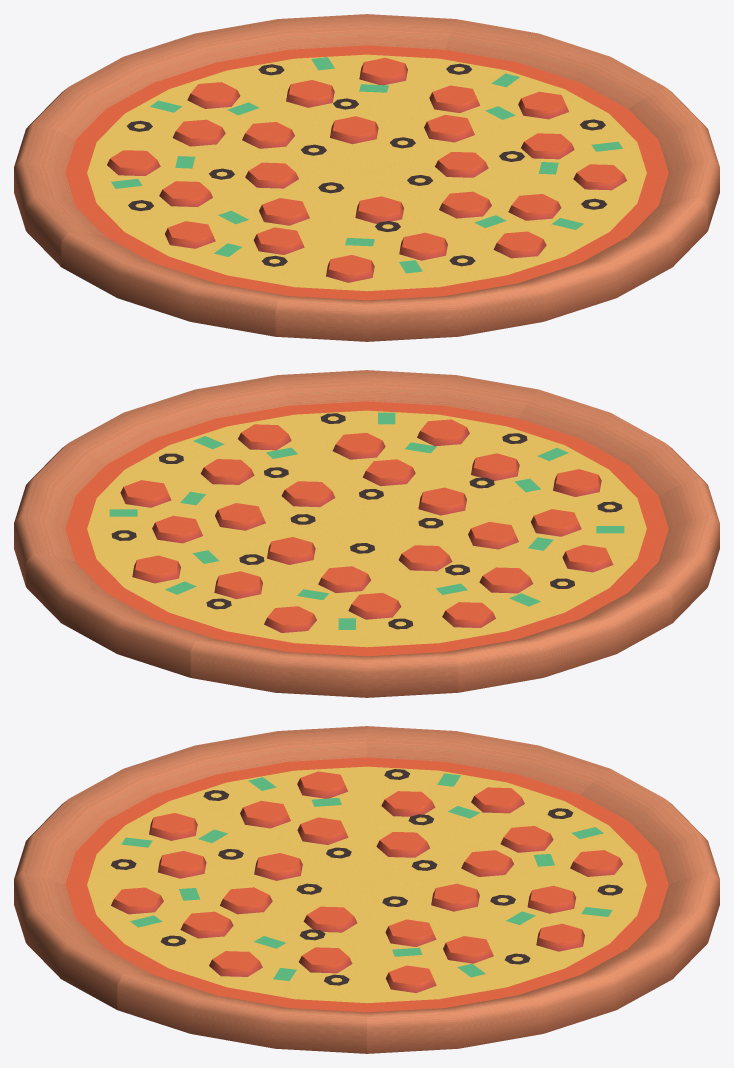
Rendered from pizza.glb.
3 views of the same model, one above another, from view 1: azimuth 30°, elevation 25°; view 2: azimuth 150°, elevation 25°; view 3: azimuth 270°, elevation 25° (orthographic).
Parts seen in each view (by area): view 1: slice7, slice8, slice6, slice3, slice4, slice1, slice2, slice5; view 2: slice2, slice1, slice3, slice6, slice5, slice8, slice7, slice4; view 3: slice4, slice5, slice6, slice3, slice8, slice1, slice2, slice7.
Part boxes in pixels (x1,y1,x2,y2): slice7: [275, 173, 543, 341]; slice8: [61, 173, 366, 336]; slice6: [367, 173, 707, 321]; slice3: [195, 14, 455, 172]; slice4: [367, 19, 664, 172]; slice1: [14, 122, 365, 266]; slice2: [28, 33, 366, 172]; slice5: [367, 87, 719, 230]; slice2: [190, 529, 458, 697]; slice1: [367, 529, 672, 692]; slice3: [26, 529, 366, 677]; slice6: [278, 370, 538, 528]; slice5: [69, 375, 366, 528]; slice8: [368, 478, 719, 622]; slice7: [367, 389, 705, 528]; slice4: [14, 443, 366, 586]; slice4: [367, 885, 616, 1053]; slice5: [117, 885, 366, 1053]; slice6: [14, 871, 365, 1009]; slice3: [368, 871, 719, 1009]; slice8: [124, 726, 366, 884]; slice1: [367, 726, 609, 884]; slice2: [367, 769, 719, 884]; slice7: [14, 769, 366, 884].
Size of the model in its own units: 0.8418 by 0.0435 by 0.8418.
1 material, 1 textured.
